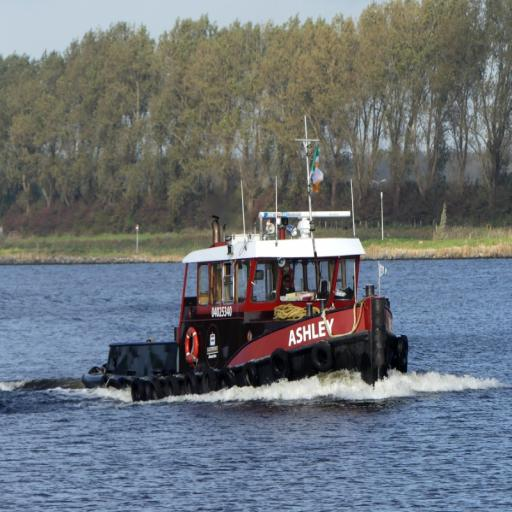tugboat: (78, 113, 416, 417)
